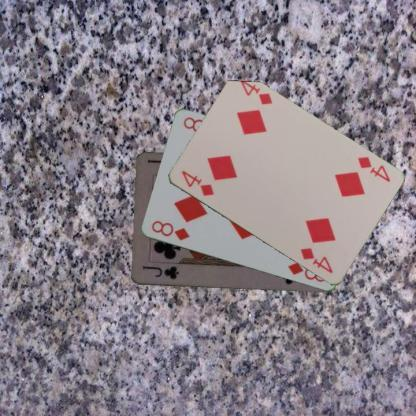4d: (354, 154, 392, 184), (178, 168, 215, 198)
8d: (148, 218, 190, 242)
Jc: (139, 263, 180, 281)
